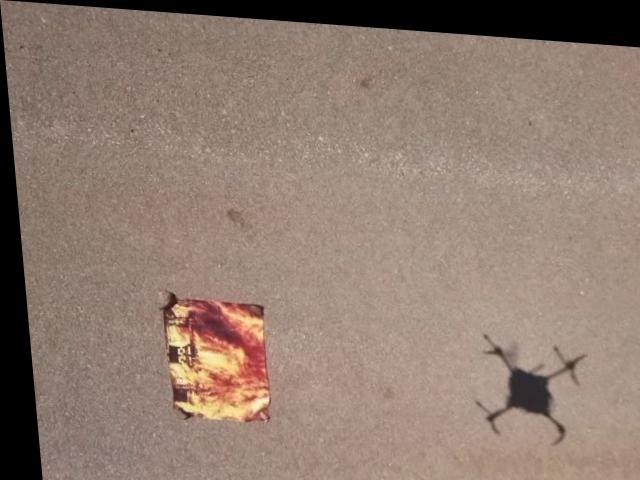fire-poster: (152, 290, 269, 425)
